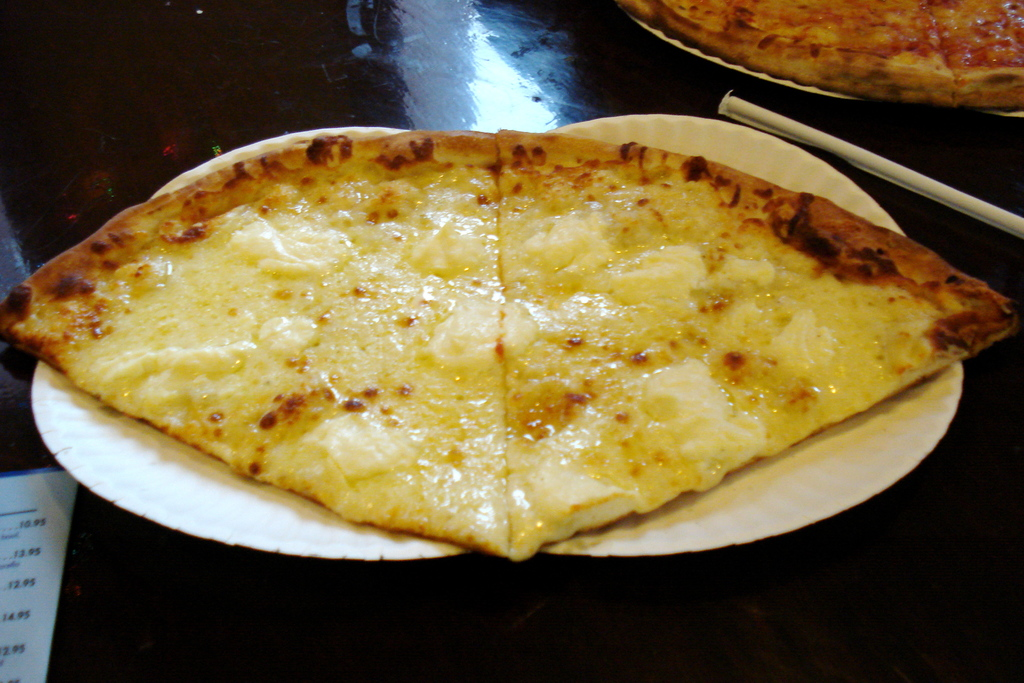Pizza: (494, 126, 1022, 567), (0, 125, 506, 554), (600, 0, 1023, 102)
